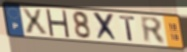8: (72, 10, 92, 40)
H: (44, 8, 71, 39)
R: (139, 15, 168, 46)
T: (118, 14, 137, 42)
X: (92, 11, 120, 43), (20, 7, 50, 36)
